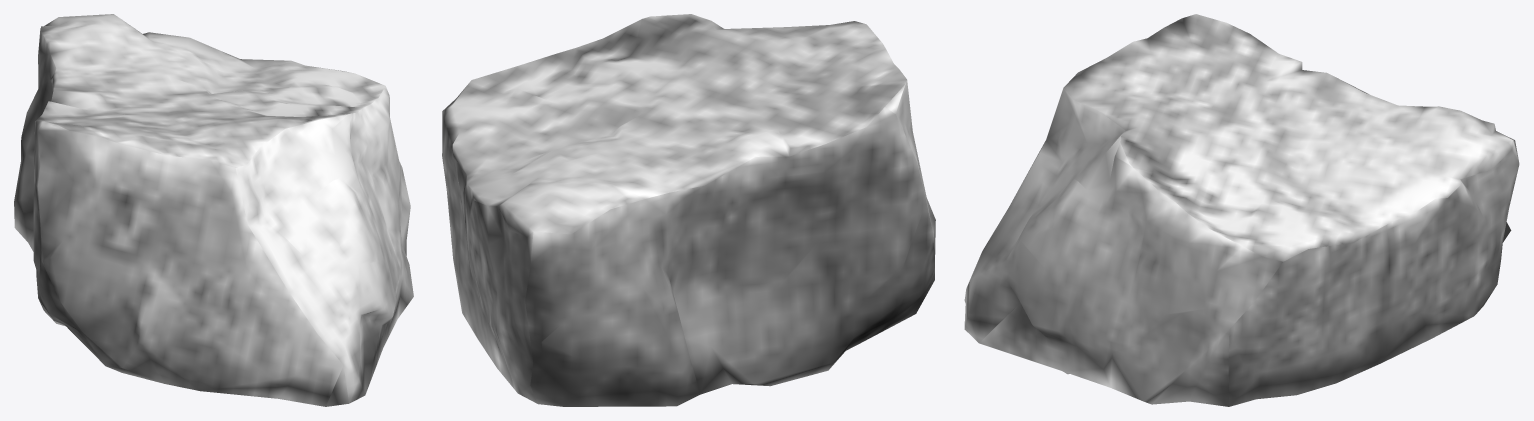
File: boulder-quarried-block-lod2.glb
The picture shows the model from 3 angles, left to right: view 1: azimuth 30°, elevation 25°; view 2: azimuth 150°, elevation 25°; view 3: azimuth 270°, elevation 25°; orthographic projection. The views are drawn at different scales.
Parts seen in each view (by area): view 1: boulder_03_LOD0; view 2: boulder_03_LOD0; view 3: boulder_03_LOD0.
Boxes of the visible parts, left/top/right/bottom form: boulder_03_LOD0: left=14, top=14, right=413, bottom=406; boulder_03_LOD0: left=442, top=14, right=935, bottom=406; boulder_03_LOD0: left=964, top=14, right=1519, bottom=406.
Bounding box in the file's own units: 2.4 × 1.47 × 3.04.
1 material, 1 textured.
